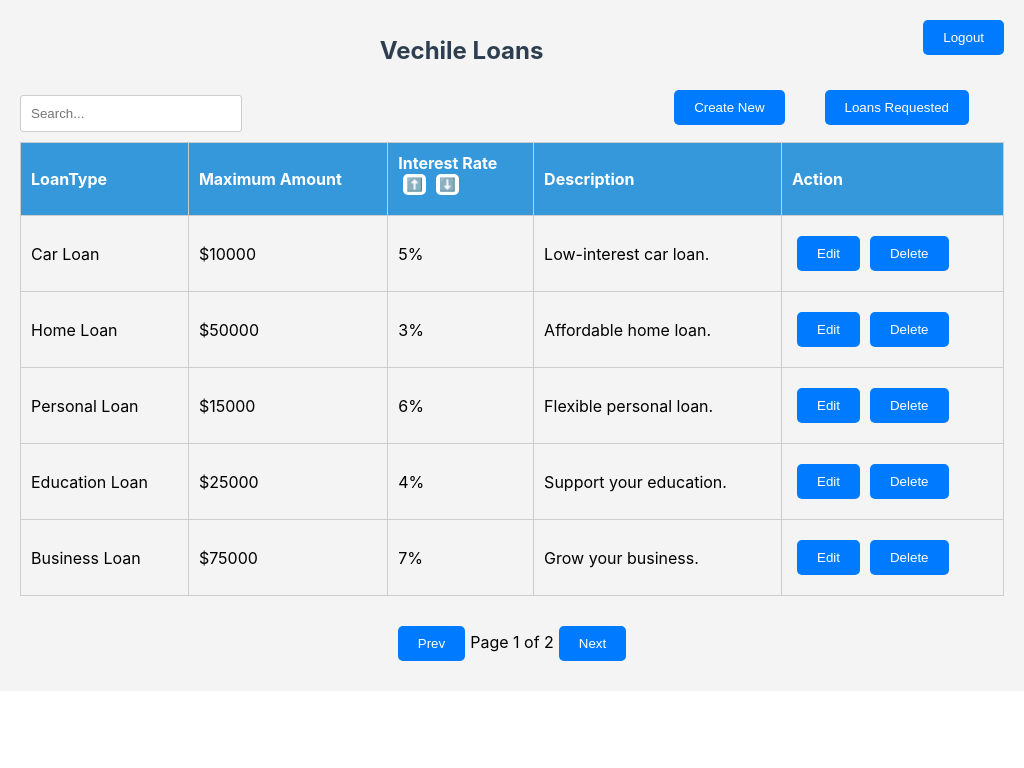
it: Adminhomepage › admin_home_page_pagination_previous_button
This screenshot has width=1024, height=768.
Expected: the text "Business Loan" is shown, x1=20 y1=520 x2=188 y2=596
Expected: the text "Mortgage Loan" is not shown
Click the button "Next" at [592, 644], box x1=559 y1=626 x2=626 y2=661
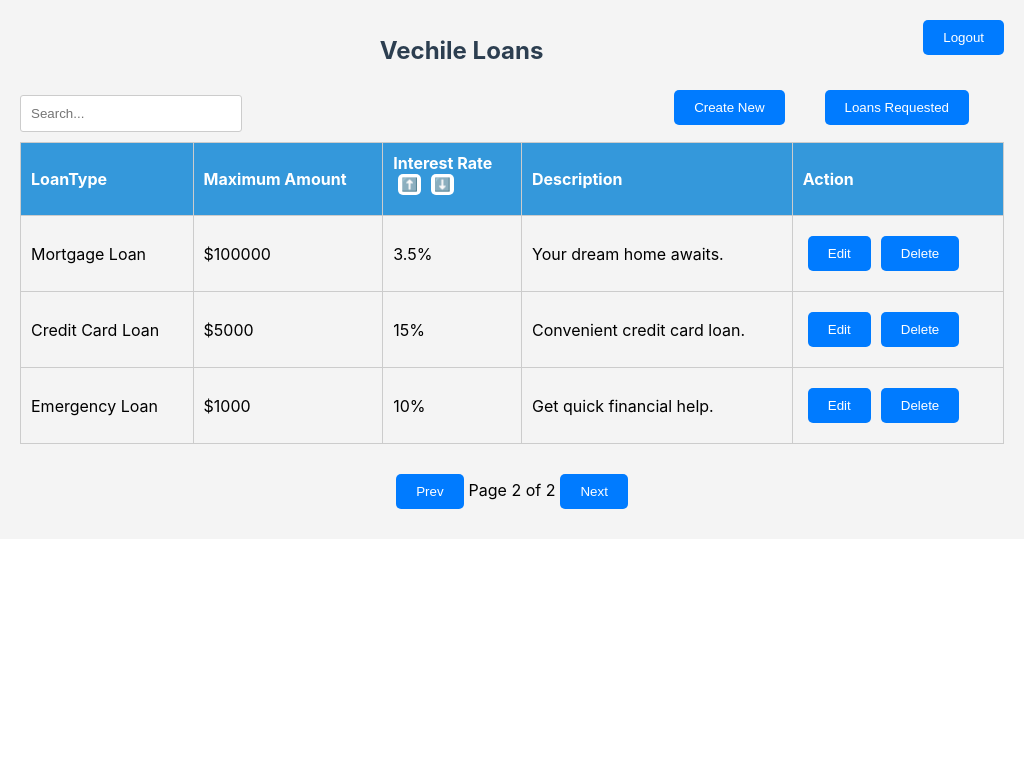
Expected: the text "Mortgage Loan" is shown, x1=20 y1=216 x2=193 y2=292
Expected: the text "Business Loan" is gone
Click the button "Prev" at [430, 492], box x1=396 y1=474 x2=464 y2=509
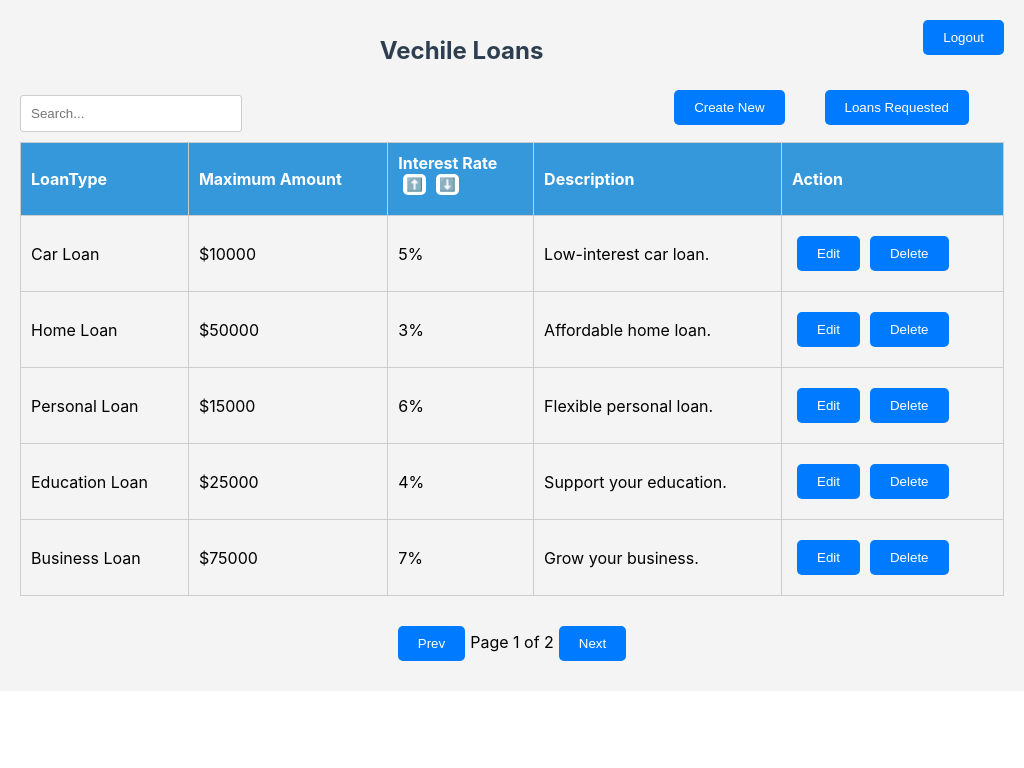
Expected: the text "Business Loan" is shown, x1=20 y1=520 x2=188 y2=596
Expected: the text "Mortgage Loan" is gone
